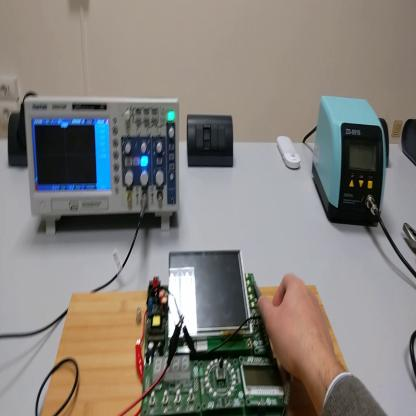hand: (258, 274, 341, 389)
low voltage board: (143, 244, 291, 414)
oscilloscope: (25, 91, 182, 233)
oscilloscope probe tip: (253, 285, 291, 409)
pliers: (403, 225, 416, 251)
socket: (8, 113, 29, 169), (402, 119, 415, 166), (379, 119, 389, 169)
welder station: (314, 95, 387, 227)
working area: (41, 243, 350, 413)
